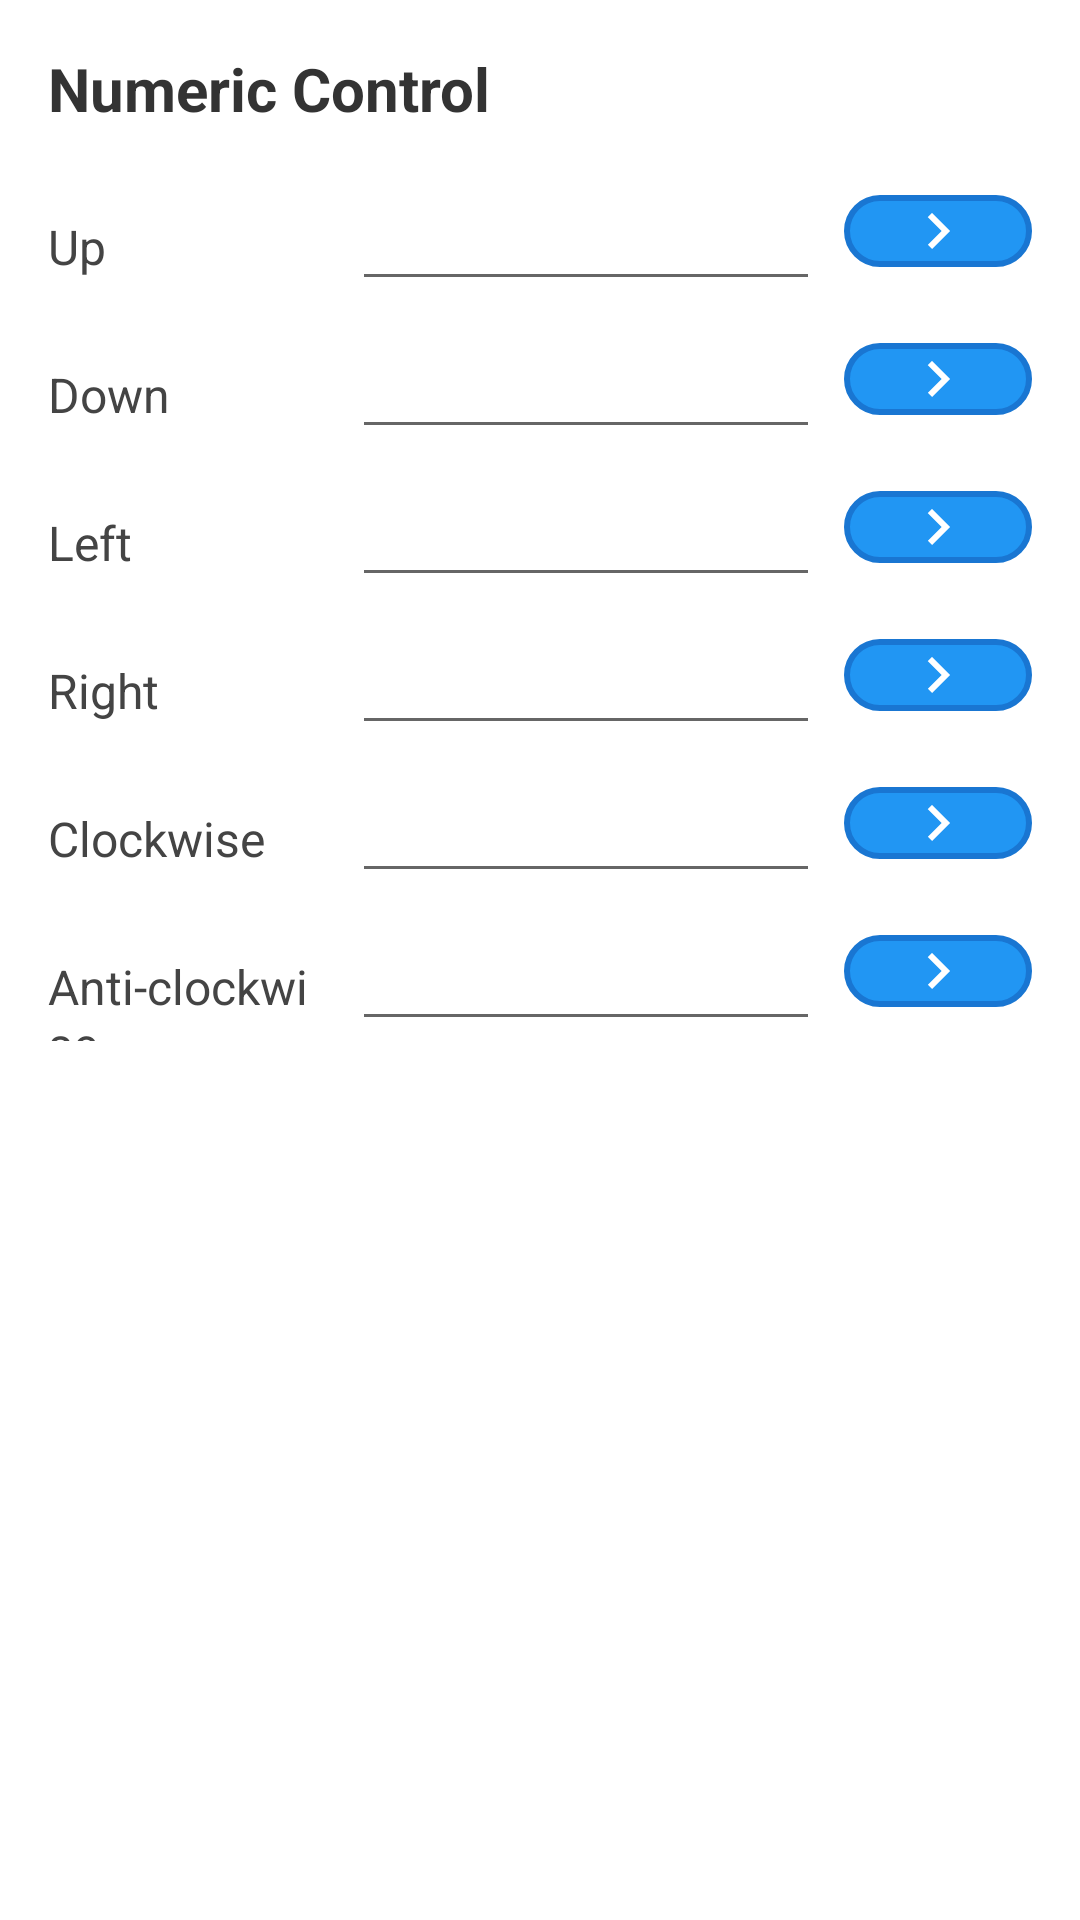

Icon click points for this 1080w x 1920h phone screenshot, format (x=x, y=y):
Send Right Command: (x=938, y=675)
